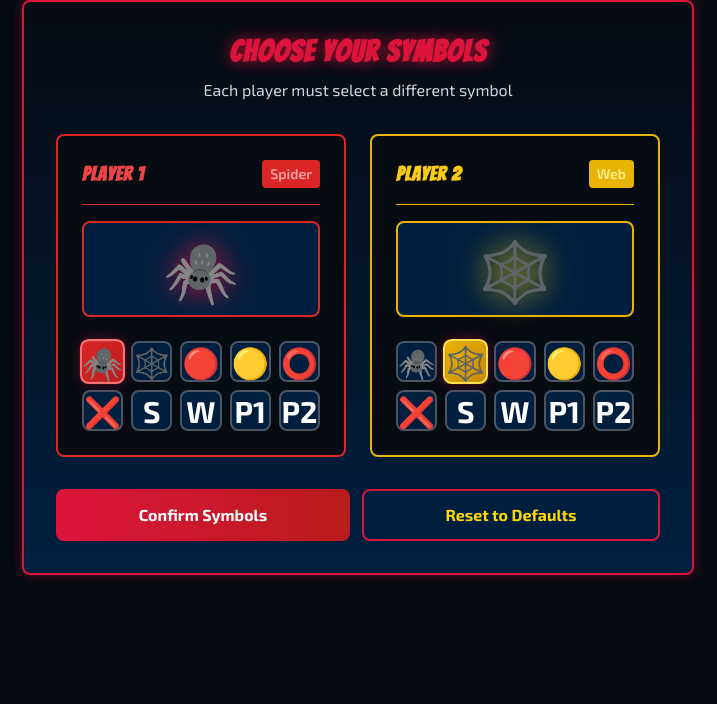
Test case: SymbolSelection Component › Duplicate Symbol Validation › should display error banner when error occurs
# Set Player 2 to yellow circle first
Click the button with class "symbol-button" below "Player 2": {"x": 564, "y": 362} x1=544 y1=341 x2=585 y2=382
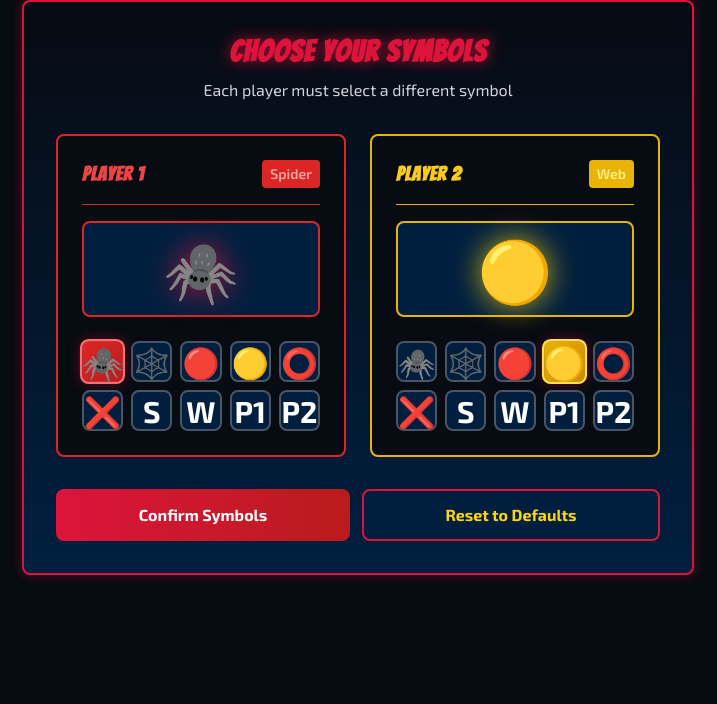
# Now try to set Player 1 to yellow circle
Click the button with class "symbol-button" below "Player 1": {"x": 250, "y": 362} x1=230 y1=341 x2=271 y2=382
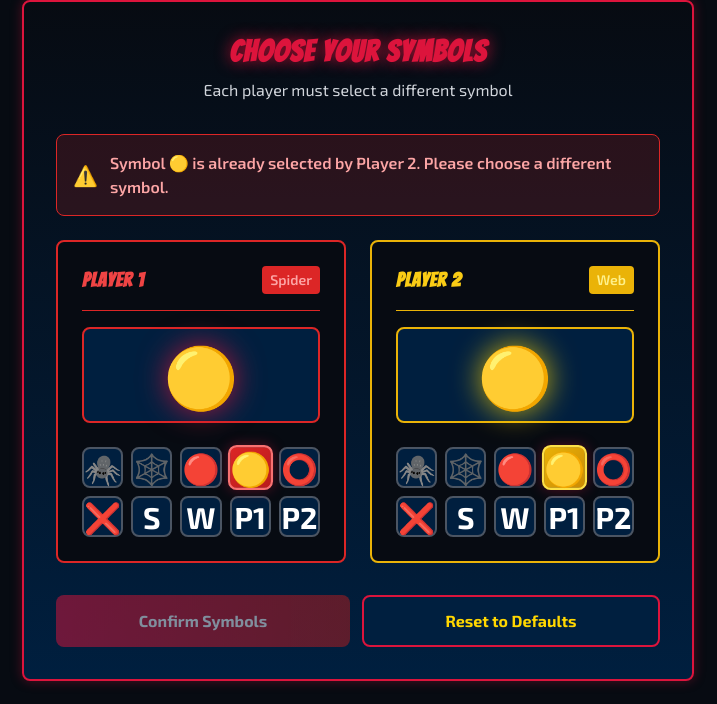
Expected: the element with class "error-banner" is shown, x1=56 y1=134 x2=660 y2=216
Expected: the text "already selected" is shown, x1=110 y1=153 x2=612 y2=196
